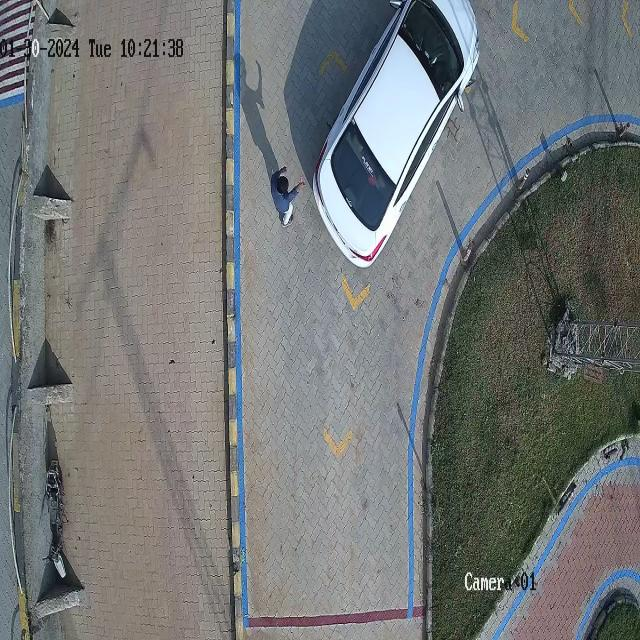car: (314, 0, 479, 268)
